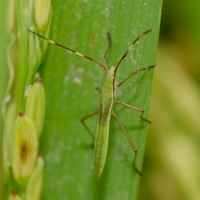insect: (27, 29, 155, 179)
